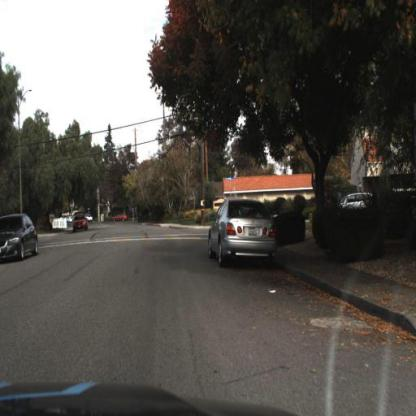car: (206, 200, 278, 268), (1, 212, 40, 265), (335, 177, 381, 220), (71, 212, 89, 235)
